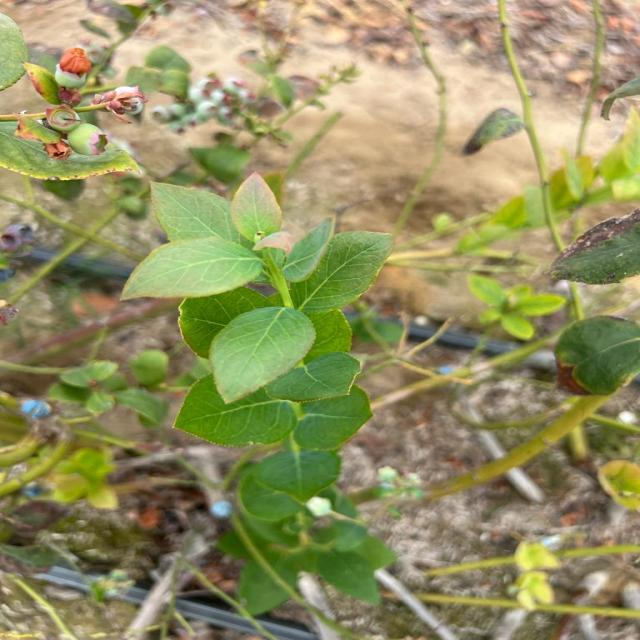Hojas sanas sin oidiosis: (147, 177, 285, 283), (207, 306, 316, 404), (116, 235, 266, 300), (170, 370, 296, 446), (177, 282, 289, 364), (290, 381, 373, 448), (262, 352, 362, 402), (228, 169, 284, 243)
